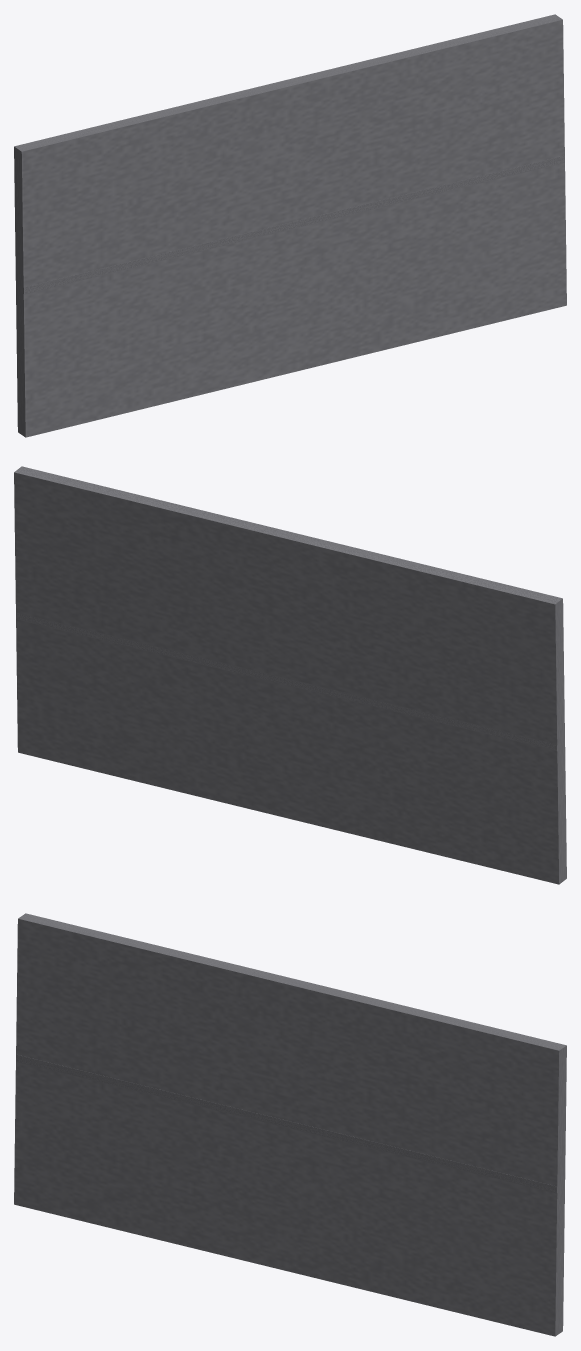
3 views of the same model, one above another, from view 1: azimuth 30°, elevation 25°; view 2: azimuth 150°, elevation 25°; view 3: azimuth 330°, elevation 25° (orthographic).
Parts seen in each view (by area): view 1: roof_canopy_lod0_run001; view 2: roof_canopy_lod0_run001; view 3: roof_canopy_lod0_run001.
Part boxes in pixels (x1,y1,x2,y2): roof_canopy_lod0_run001: (14,14,566,437); roof_canopy_lod0_run001: (14,466,566,884); roof_canopy_lod0_run001: (14,913,566,1336).
Bounding box in the file's own units: 8 × 4 × 0.2999.
1 material, 1 textured.
